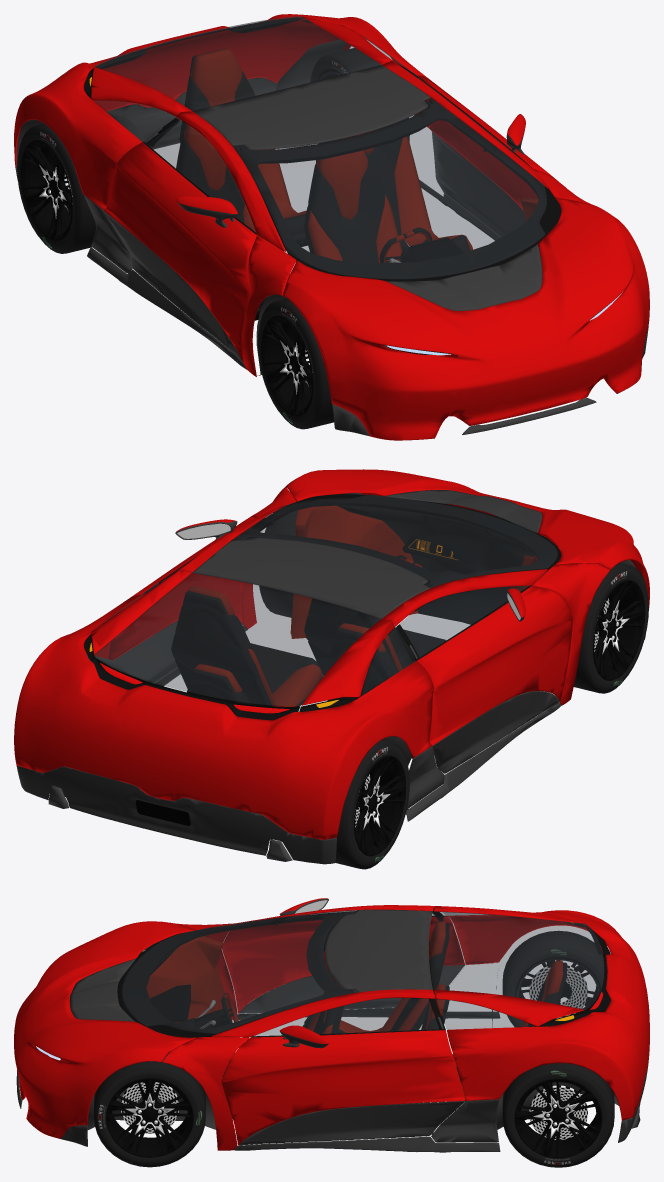
The model's file is car.glb.
3 renders of one model, top to bottom at view 1: azimuth 30°, elevation 25°; view 2: azimuth 150°, elevation 25°; view 3: azimuth 270°, elevation 25°, orthographic. The views are drawn at different scales.
Parts seen in each view (by area): view 1: Paint 1 Carmine, Glass, Paint 2 Carmine, Body, Interior 3 Carmine, Interior 2, Rim1 (×2), Tiretread (×3), Tireside (×2), Mechanical, Dashboard; view 2: Paint 1 Carmine, Glass, Paint 2 Carmine, Body, Rim1 (×2), Interior 3 Carmine, Interior 1, Tiretread (×3), Tireside (×2), Interior 2, Dashboard, Mechanical (+2 smaller); view 3: Paint 1 Carmine, Glass, Paint 2 Carmine, Body, Rim1 (×3), Tireside (×3), Interior 3 Carmine, Tiretread (×3), Disc (×3), Interior 2, Mechanical, Dashboard (+1 smaller).
Part boxes in pixels (x1,y1,x2,y2): Paint 1 Carmine: (14, 14, 649, 440); Glass: (94, 16, 546, 278); Paint 2 Carmine: (15, 65, 648, 436); Body: (84, 17, 561, 320); Interior 3 Carmine: (184, 48, 538, 354); Interior 2: (179, 71, 469, 310); Rim1 (×2): (20, 140, 313, 416); Tiretread (×3): (19, 48, 409, 429); Tireside (×2): (17, 130, 319, 425); Mechanical: (16, 39, 542, 375); Dashboard: (402, 237, 463, 262); Paint 1 Carmine: (14, 469, 649, 839); Glass: (94, 494, 557, 705); Paint 2 Carmine: (16, 490, 645, 864); Body: (84, 494, 561, 758); Rim1 (×2): (354, 580, 645, 856); Interior 3 Carmine: (187, 496, 537, 751); Interior 1: (338, 501, 538, 624); Tiretread (×3): (259, 495, 646, 869); Tireside (×2): (348, 569, 648, 866); Interior 2: (229, 614, 445, 704); Dashboard: (402, 532, 470, 566); Mechanical: (48, 493, 635, 861); Paint 1 Carmine: (14, 898, 649, 1150); Glass: (121, 910, 604, 1036); Paint 2 Carmine: (16, 898, 649, 1152); Body: (117, 907, 610, 1101); Rim1 (×3): (106, 957, 602, 1158); Tireside (×3): (97, 949, 611, 1165); Interior 3 Carmine: (146, 921, 562, 1120); Tiretread (×3): (94, 930, 614, 1167); Disc (×3): (121, 965, 587, 1139); Interior 2: (223, 941, 558, 1082); Mechanical: (87, 1010, 640, 1134); Dashboard: (150, 984, 190, 1022).
Bounding box in the file's own units: 2.34 × 1.15 × 4.36.
Materials: 20 (3 with a texture image).
